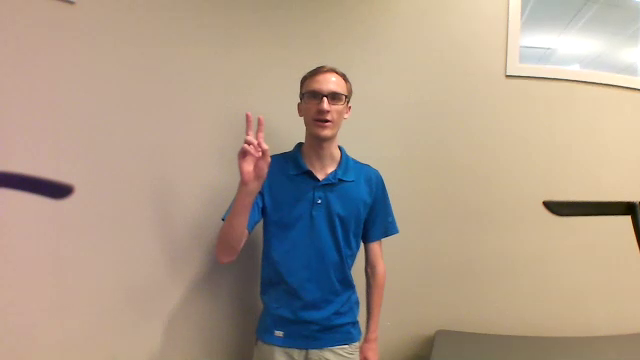peace: (230, 108, 277, 196)
